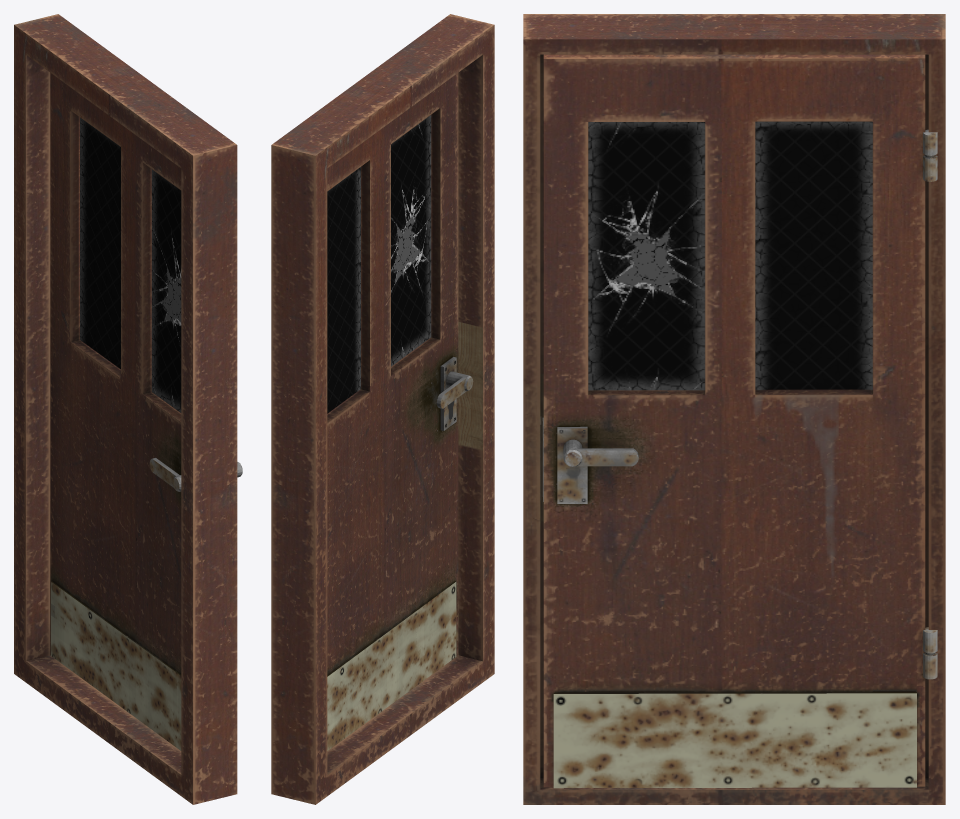
The model's file is door2 1.fbx.
3 views of the same model, side by side, from view 1: azimuth 30°, elevation 25°; view 2: azimuth 150°, elevation 25°; view 3: azimuth 270°, elevation 25° (orthographic). The views are drawn at different scales.
Visible parts, largest first — view 1: Cube.002_Cube.001_My_Ui_0, Cube.002_Cube.000_My_Ui_0; view 2: Cube.002_Cube.001_My_Ui_0, Cube.002_Cube.000_My_Ui_0; view 3: Cube.002_Cube.000_My_Ui_0, Cube.002_Cube.001_My_Ui_0.
Part boxes in pixels (x1,y1,x2,y2): Cube.002_Cube.001_My_Ui_0: (14,14,237,804); Cube.002_Cube.000_My_Ui_0: (50,73,242,750); Cube.002_Cube.001_My_Ui_0: (271,14,494,804); Cube.002_Cube.000_My_Ui_0: (327,73,473,750); Cube.002_Cube.000_My_Ui_0: (542,54,937,788); Cube.002_Cube.001_My_Ui_0: (523,14,945,804).
Bounding box in the file's own units: 31.03 × 286 × 143.
Materials: 1 (1 with a texture image).
